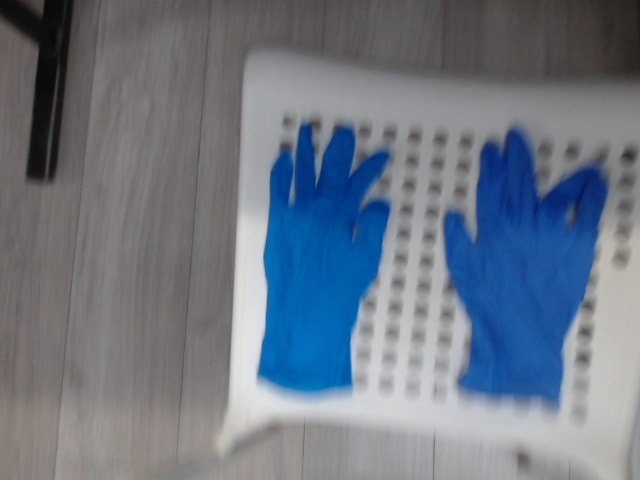medical_glove: (445, 130, 608, 399), (258, 125, 388, 391)
